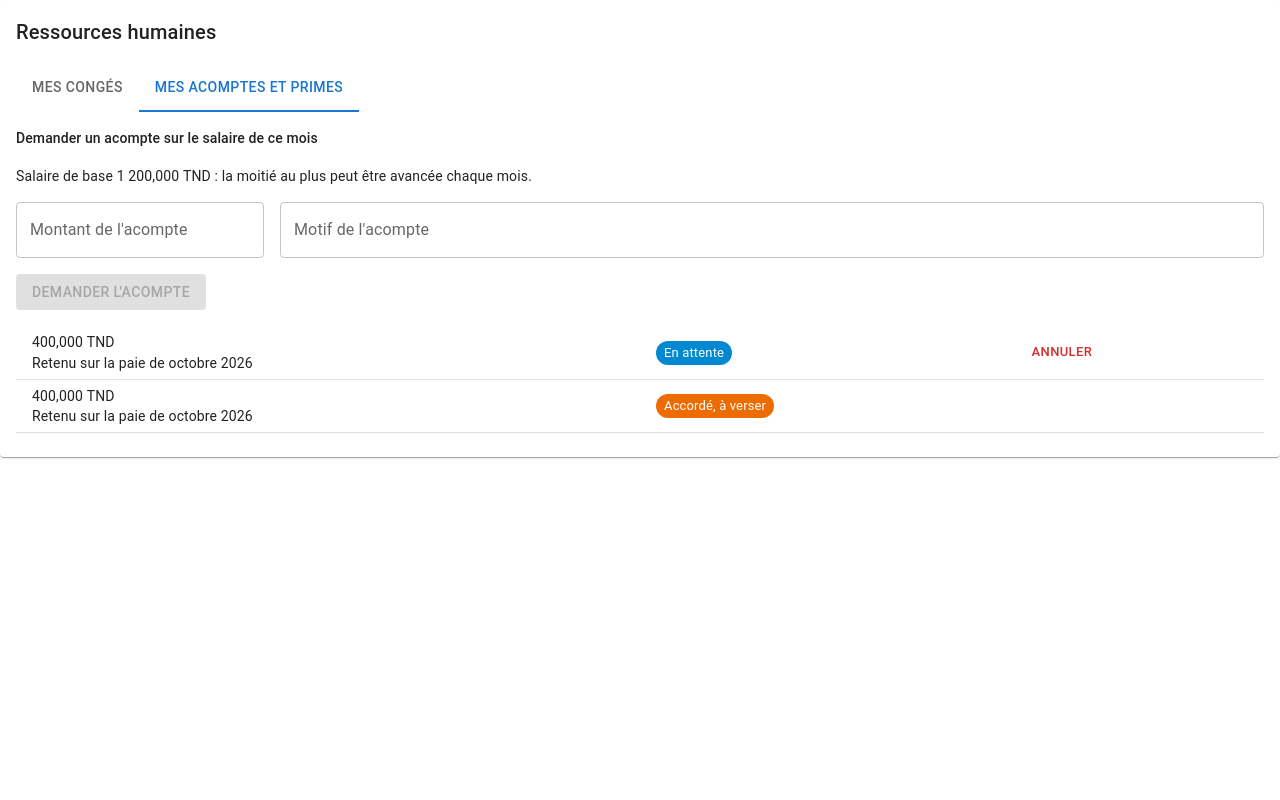
Test: l'employée retire sa demande d'acompte encore en attente
The image size is (1280, 800).
Step 1. Click the button with aria-label "Annuler l'acompte" → (1062, 352), box top-left (1026, 337), bottom-right (1097, 368)
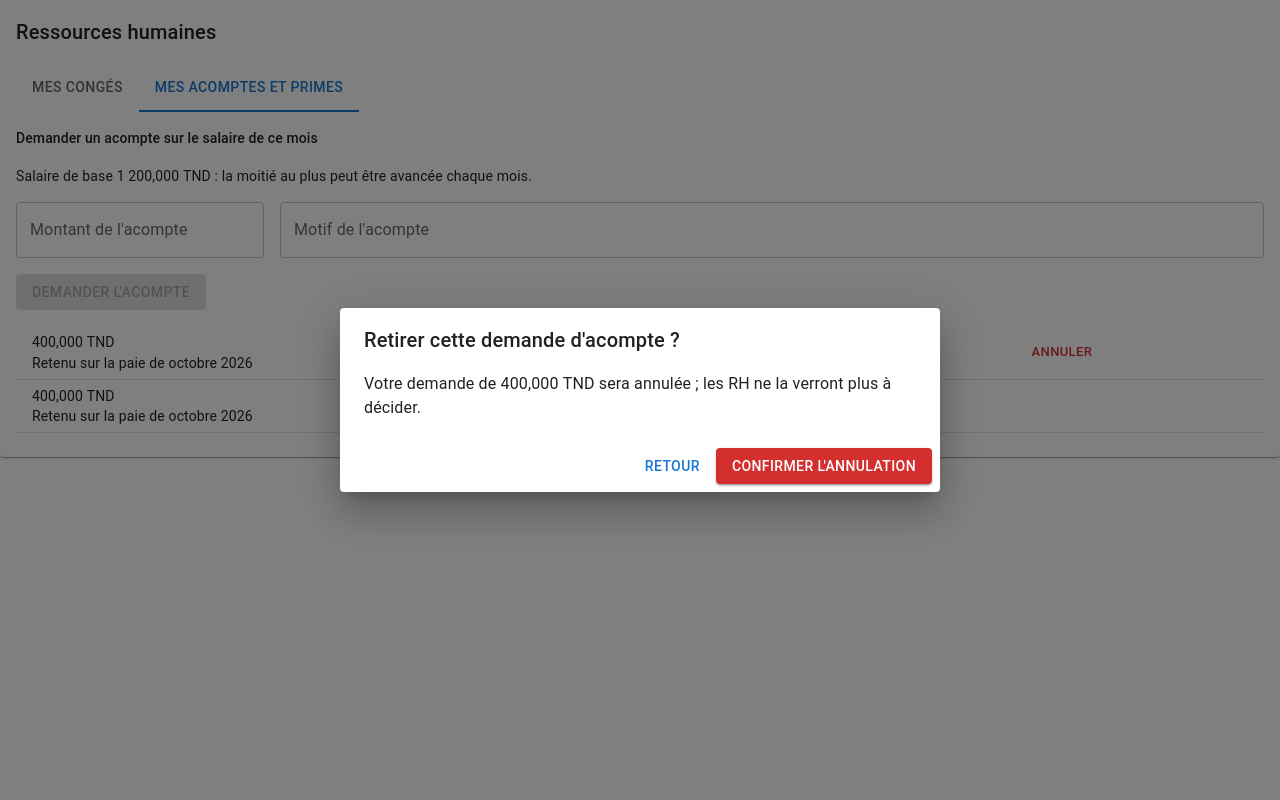
Result: the text "les RH ne la verront plus à décider" is shown at top-left (364, 374), bottom-right (891, 417)
Step 2. Click the button "Confirmer l'annulation" → (824, 466), box top-left (716, 448), bottom-right (932, 484)
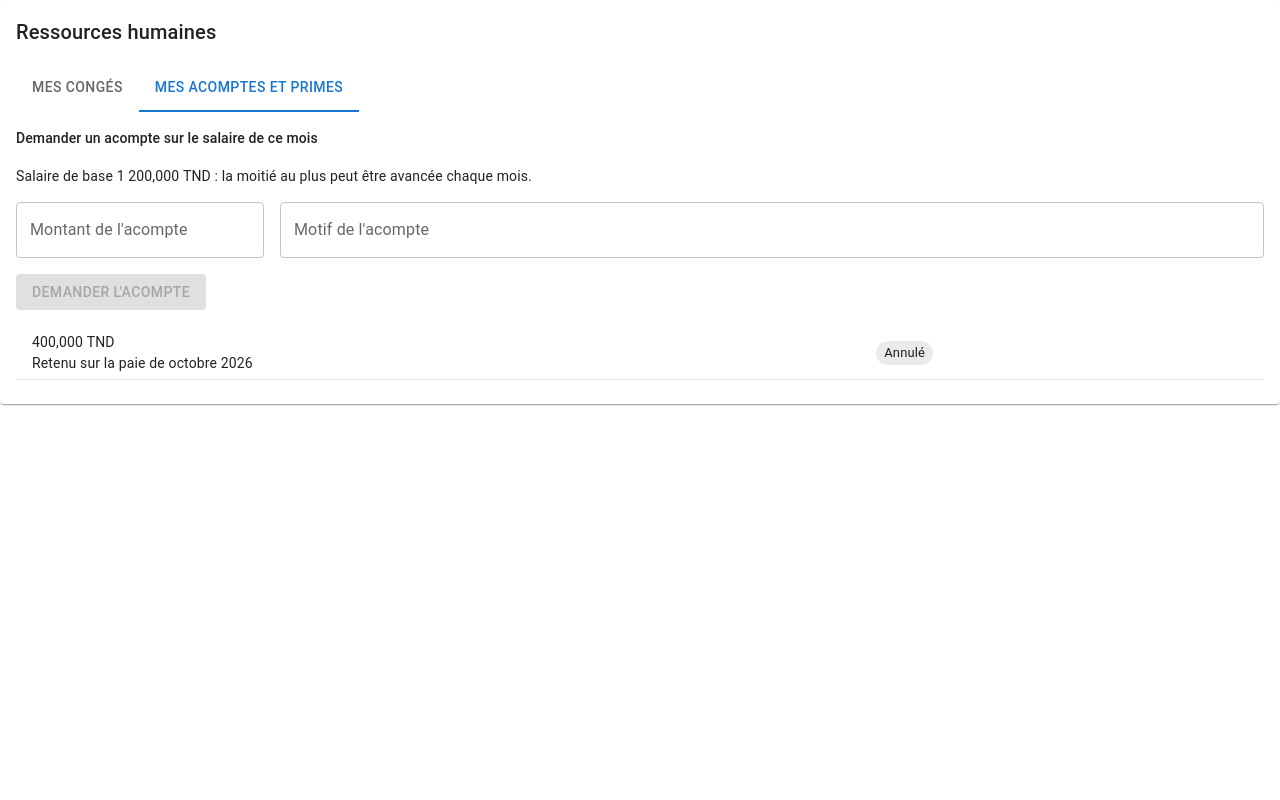
Result: the text "Annulé" is shown at top-left (884, 345), bottom-right (925, 360)
